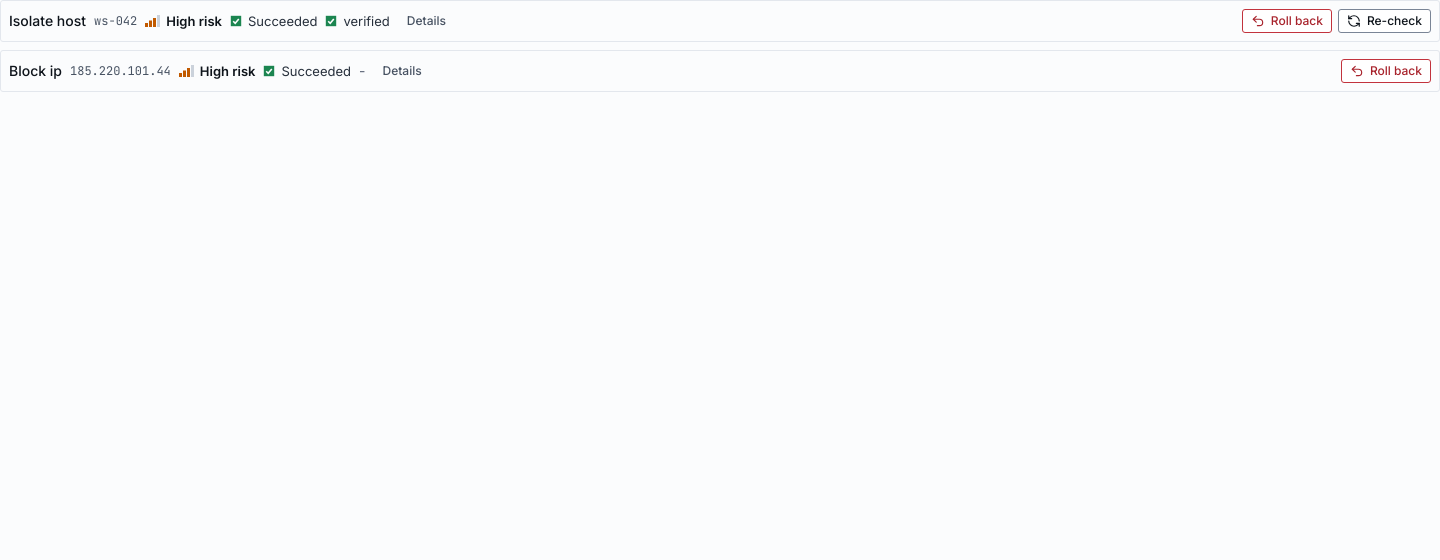
Test: alert drawer response actions › lists the alert's actions with verification and expandable details
expect the text "ws-042" is shown: met, box [94,13,137,29]
expect the text "verified" is shown: met, box [326,12,390,30]
Click the button with aria-label "Show details of Isolate host on ws-042".
click(426, 21)  # box [398,9,455,33]
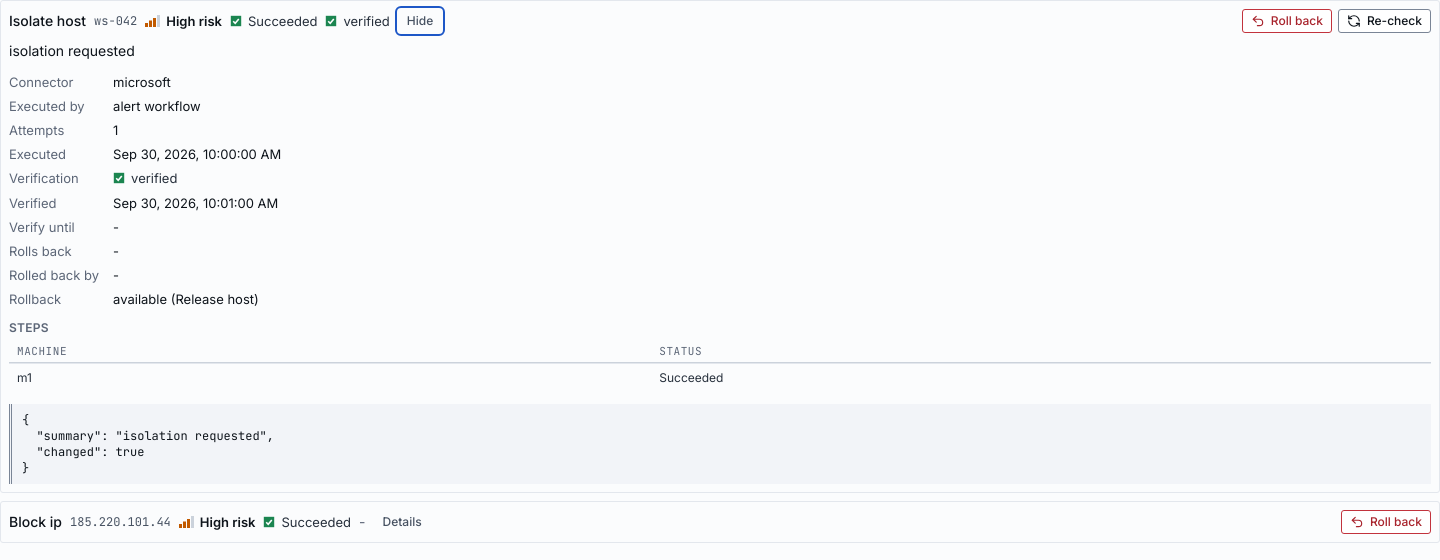
expect the number of buttons "Roll back" is 2: met, box [1242,9,1332,33]; [1341,510,1431,534]
expect the text "isolation requested" is shown: met, box [9,42,135,59]
